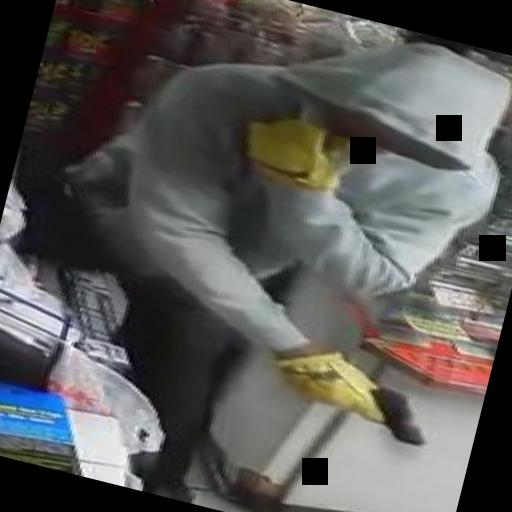Handgun: (298, 359, 438, 449)
